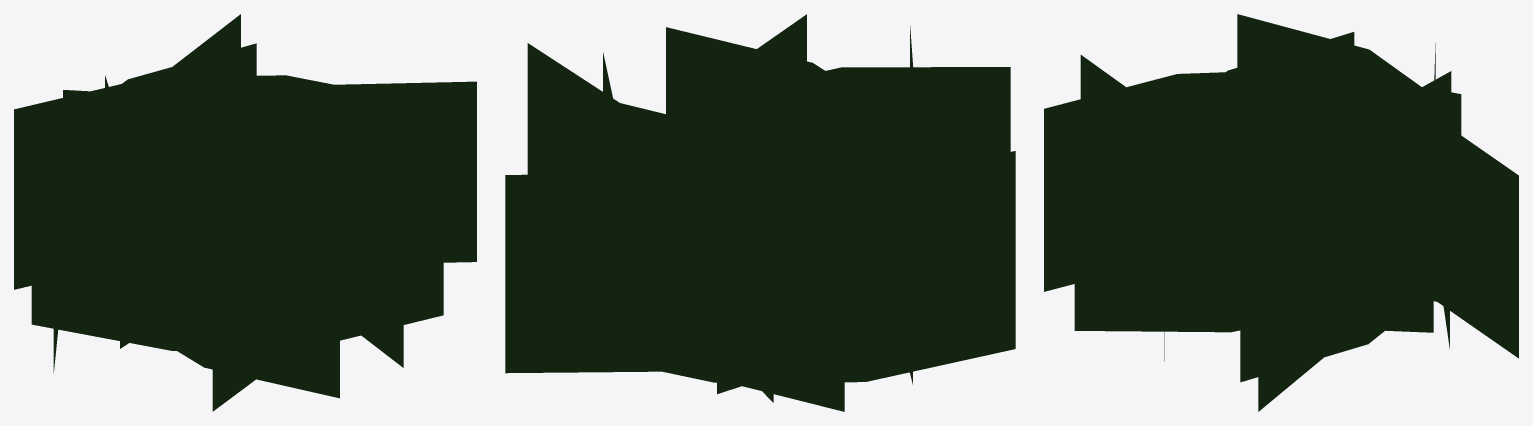
Rendered from Grass_Group.FBX.
3 views of the same model, side by side, from view 1: azimuth 30°, elevation 25°; view 2: azimuth 150°, elevation 25°; view 3: azimuth 270°, elevation 25° (orthographic). The views are drawn at different scales.
Visible parts, largest first — view 1: Grass_Group; view 2: Grass_Group; view 3: Grass_Group.
Boxes of the visible parts, box(x1,y1,x2,y2) form: Grass_Group: box(14, 14, 476, 411); Grass_Group: box(505, 14, 1015, 411); Grass_Group: box(1044, 14, 1518, 411).
Bounding box in the file's own units: 34.46 × 13.7 × 32.17.
